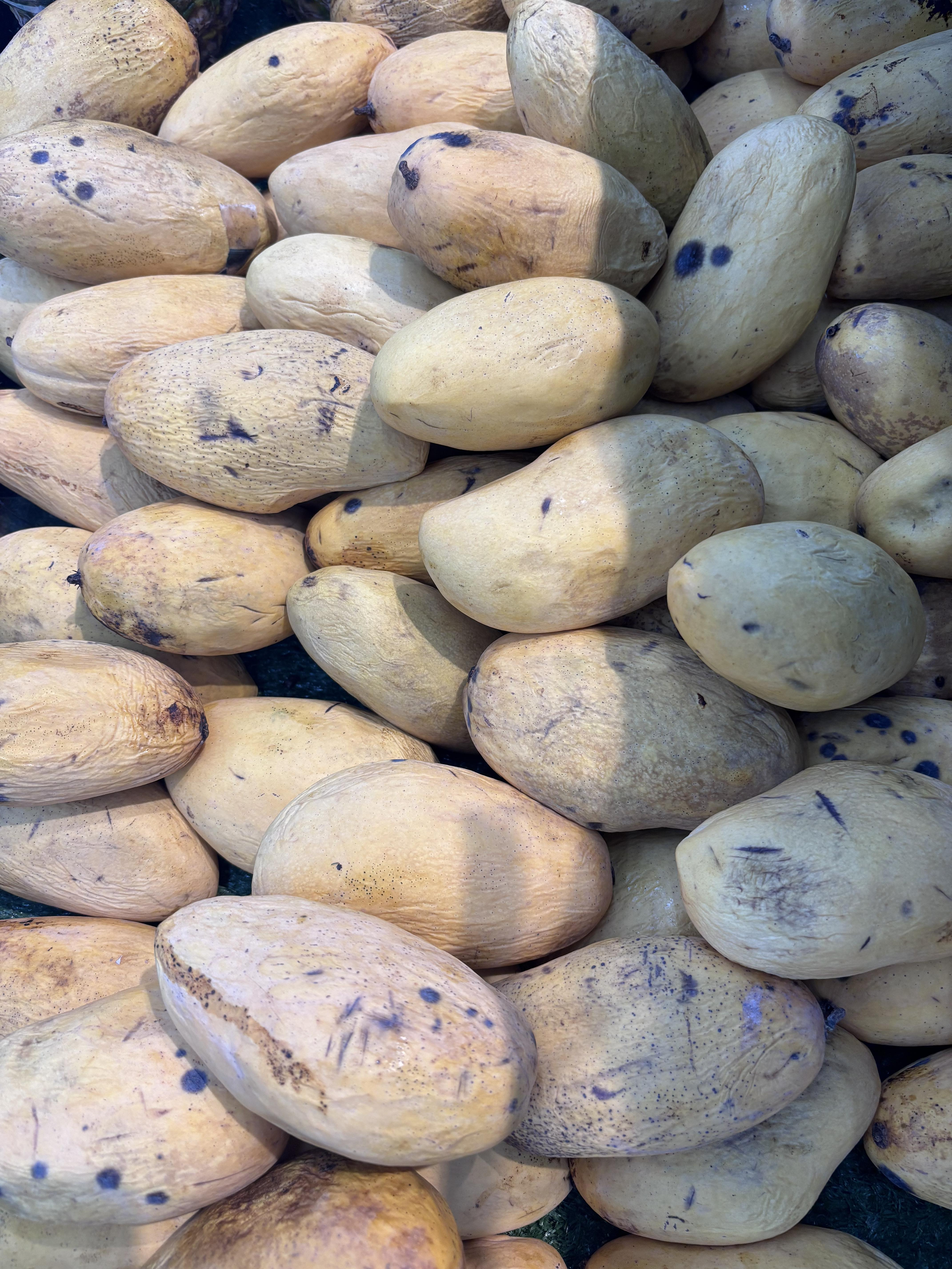mango: (156, 896, 536, 1166), (370, 277, 659, 451), (667, 520, 925, 712)
occluded: (253, 760, 613, 971), (419, 415, 764, 633), (497, 936, 825, 1159), (464, 627, 802, 834), (0, 986, 286, 1225), (572, 1032, 880, 1245), (642, 115, 855, 403), (676, 762, 952, 979), (104, 329, 428, 513), (166, 696, 436, 872), (506, 0, 712, 228), (388, 127, 667, 295), (0, 527, 257, 704), (0, 119, 272, 284), (287, 565, 501, 753), (143, 1149, 465, 1269), (73, 497, 308, 656), (158, 22, 396, 178), (9, 275, 259, 417), (0, 640, 208, 806), (0, 782, 219, 922), (305, 452, 531, 584), (0, 0, 199, 138), (245, 233, 461, 355), (0, 389, 179, 531), (269, 122, 453, 250), (797, 31, 952, 170), (815, 303, 952, 458), (712, 411, 882, 531), (0, 915, 155, 1038), (827, 155, 952, 303), (766, 0, 952, 86), (368, 31, 522, 133), (569, 829, 698, 950), (416, 1141, 571, 1240), (856, 426, 952, 578), (585, 1225, 901, 1269), (864, 1049, 952, 1207), (798, 695, 952, 785), (809, 957, 952, 1047), (0, 1207, 190, 1269), (0, 258, 85, 385), (748, 297, 841, 413), (691, 68, 813, 155), (881, 576, 952, 700), (328, 0, 508, 48), (571, 0, 722, 55), (688, 0, 778, 83), (632, 393, 756, 423), (463, 1235, 566, 1269)
